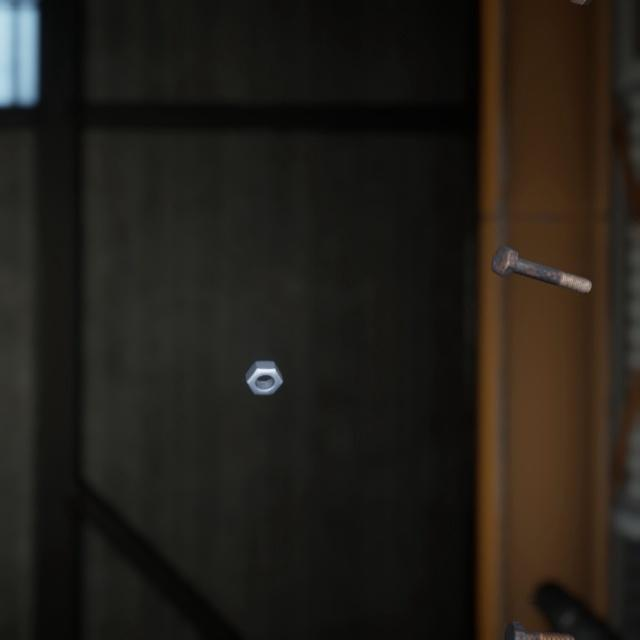bolt: (487, 224, 596, 281), (499, 593, 579, 632)
nut: (241, 336, 287, 380)
